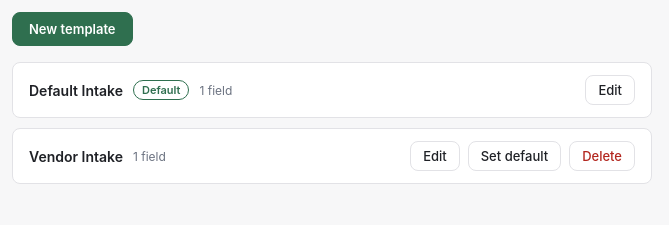
Test case: TemplateManager › shows an error when deletion is refused
Expected: the text "Vendor Intake" is shown, [29,148,123,164]
Click the button "Delete" at (602, 156), box [569,141,635,171]
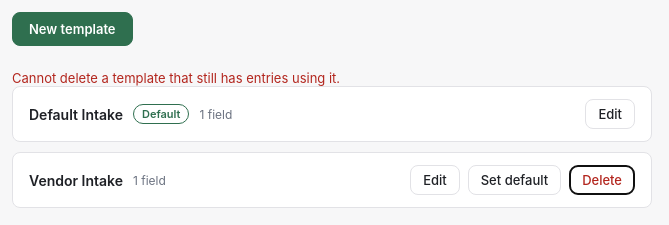
Expected: the text "Cannot delete a template that still has entries using it." is shown, [12,70,340,86]
